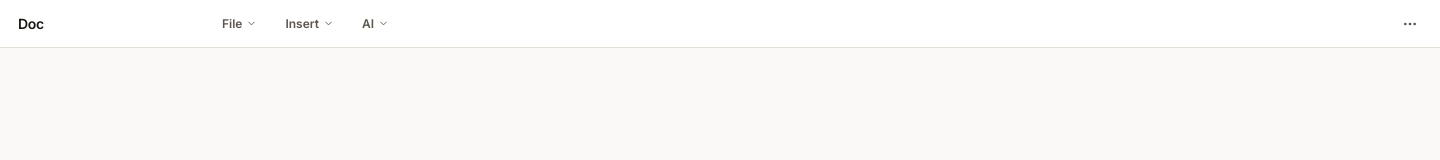
Test: TopBar › disables the AI items with no selection and says why
Click the button with test id "topbar-ai" at (376, 24), box [352,10,399,38]
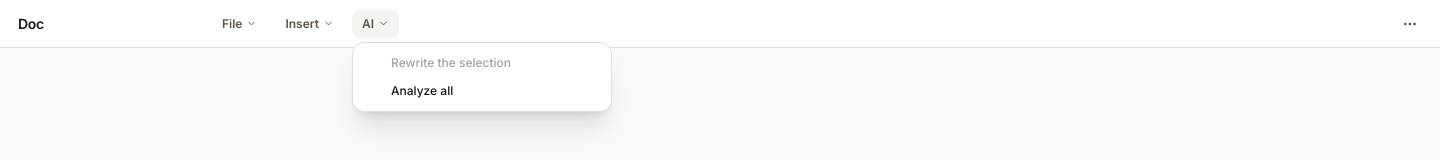
Expected: the menu item with test id "item-rewrite" is disabled, [359,48,605,76]
